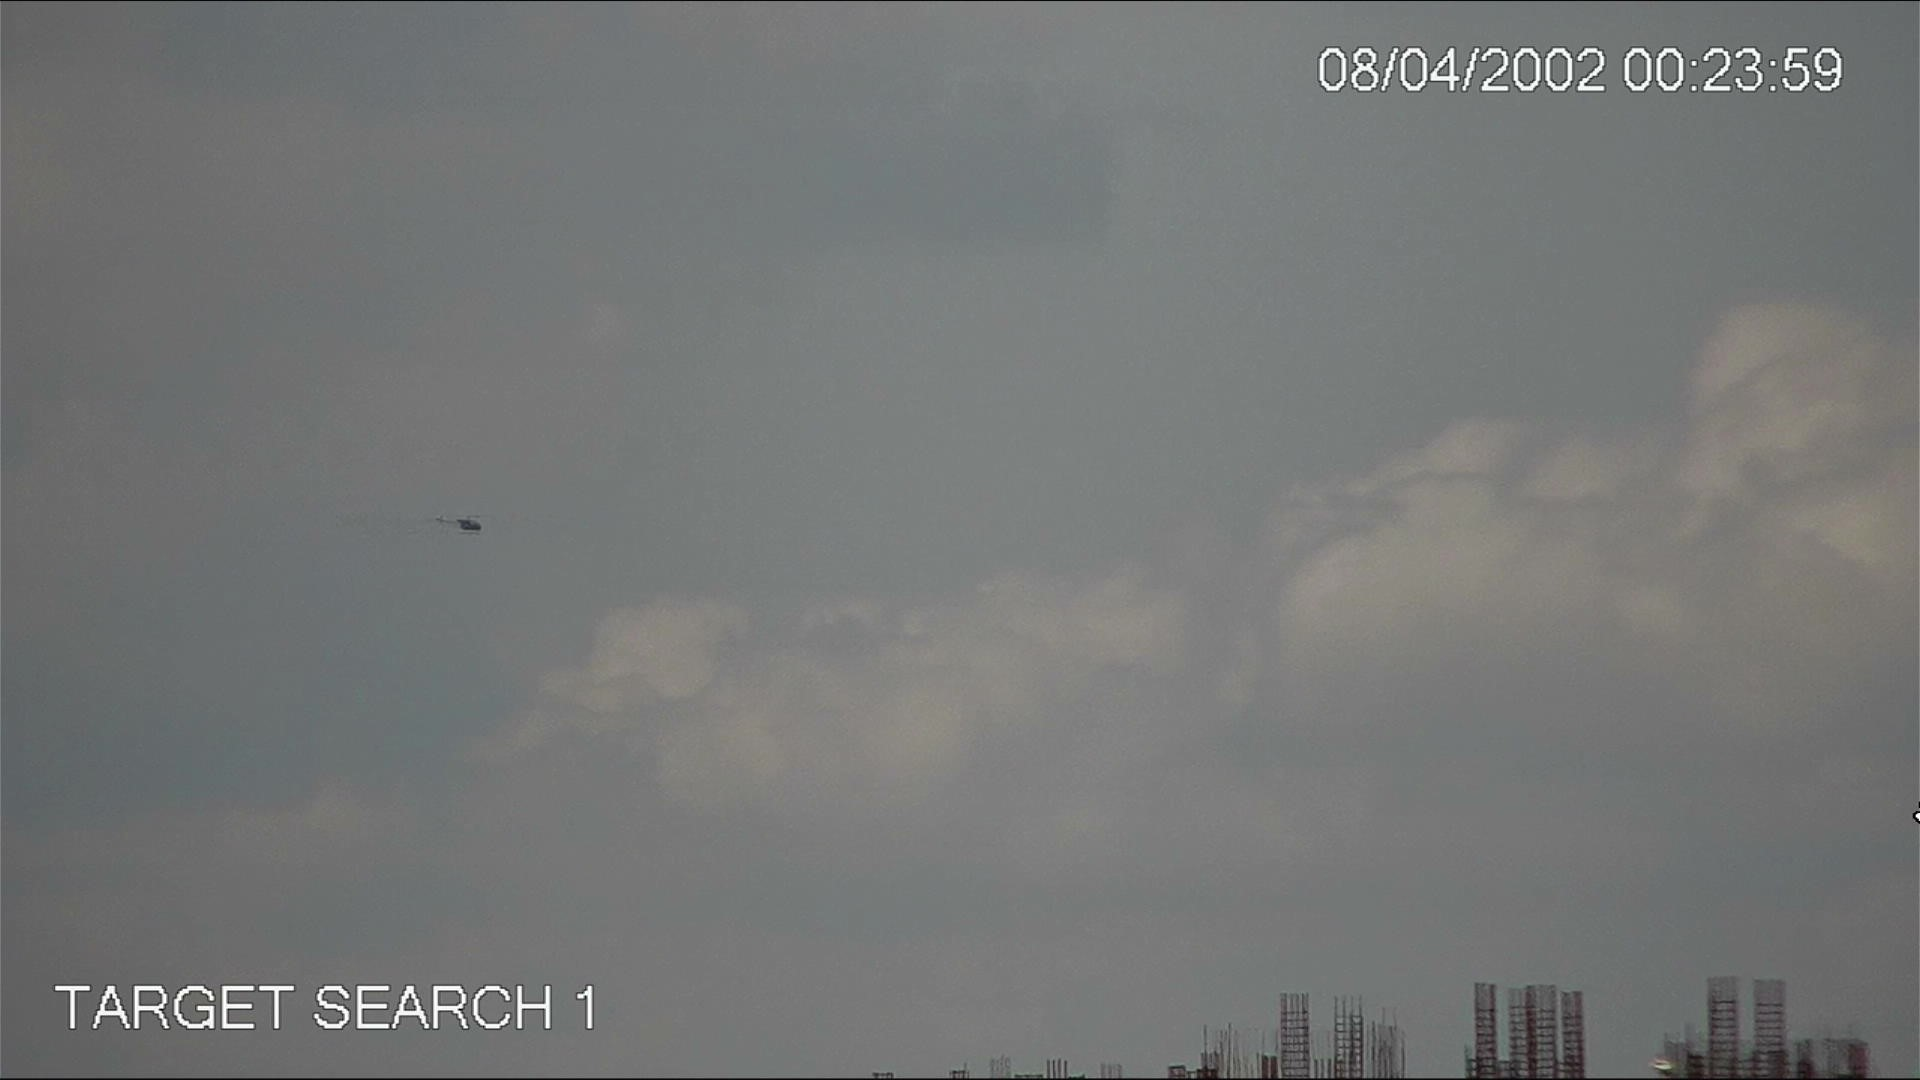SU_30: (429, 506, 487, 541)
